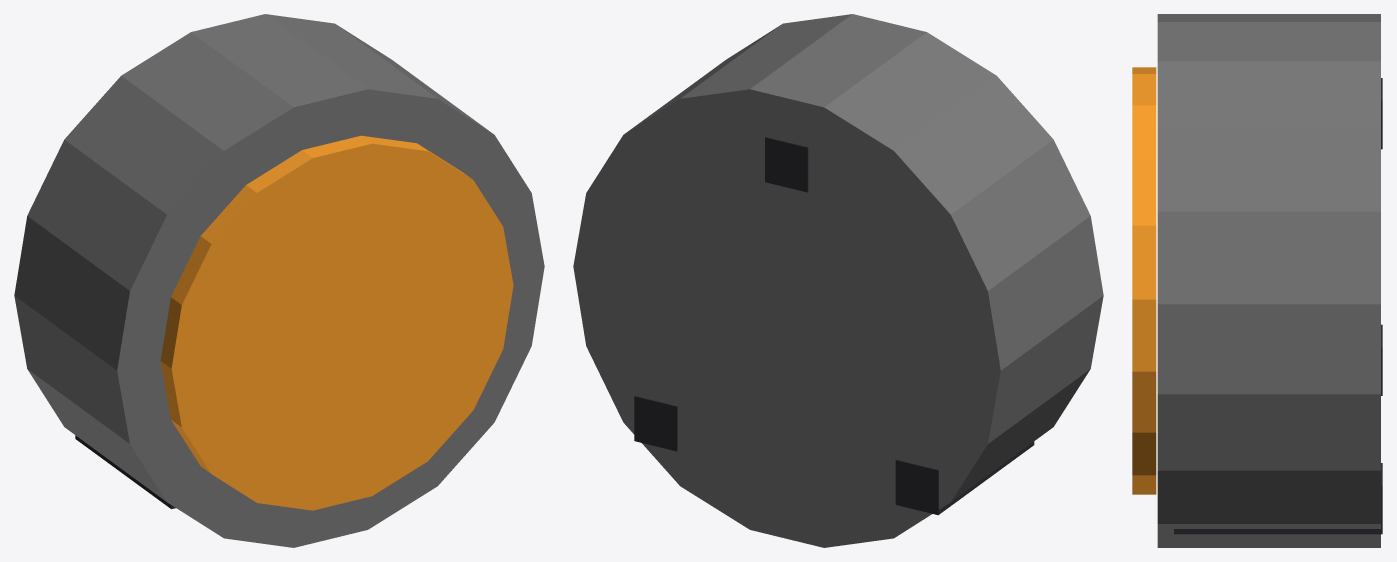
The model's file is molten_crucible.glb.
3 renders of one model, left to right at view 1: azimuth 30°, elevation 25°; view 2: azimuth 150°, elevation 25°; view 3: azimuth 270°, elevation 25°, orthographic. The views are drawn at different scales.
Parts seen in each view (by area): view 1: bowl, lava; view 2: bowl, leg1, leg2, leg3; view 3: bowl, lava, leg2.
Boxes of the visible parts, x1=… form: bowl: x1=14, y1=14, x2=544, y2=547; lava: x1=160, y1=135, x2=513, y2=510; bowl: x1=573, y1=14, x2=1103, y2=547; leg1: x1=895, y1=441, x2=1034, y2=515; leg2: x1=634, y1=396, x2=677, y2=451; leg3: x1=765, y1=137, x2=808, y2=192; bowl: x1=1157, y1=14, x2=1380, y2=547; lava: x1=1132, y1=67, x2=1156, y2=494; leg2: x1=1174, y1=463, x2=1382, y2=534.
Bounding box in the file's own units: 1.8 × 1.77 × 0.84.
